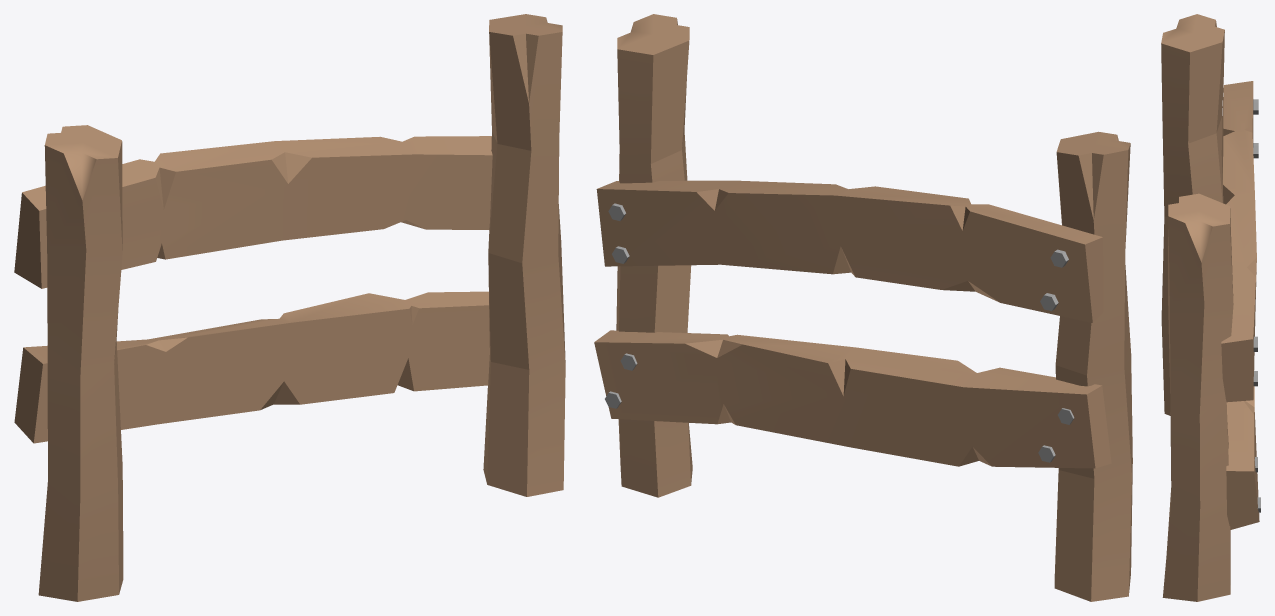
Rendered from fence2.fbx.
The picture shows the model from 3 angles, left to right: view 1: azimuth 30°, elevation 25°; view 2: azimuth 150°, elevation 25°; view 3: azimuth 270°, elevation 25°; orthographic projection. The views are drawn at different scales.
Parts seen in each view (by area): view 1: pCube6, pCube5, pCylinder8, pCylinder7; view 2: pCube5, pCube6, pCylinder8, pCylinder7; view 3: pCylinder7, pCylinder8, pCube6, pCube5.
Boxes of the visible parts, x1,y1,x2,y2 form: pCube6: (14, 136, 492, 288); pCube5: (14, 291, 489, 443); pCylinder8: (38, 125, 123, 601); pCylinder7: (483, 14, 565, 496); pCube5: (594, 330, 1111, 468); pCube6: (596, 180, 1103, 322); pCylinder8: (1054, 131, 1132, 601); pCylinder7: (616, 14, 692, 497); pCylinder7: (1162, 193, 1233, 601); pCylinder8: (1161, 14, 1224, 415); pCube6: (1221, 81, 1256, 402); pCube5: (1226, 386, 1259, 529).
Size of the model in its own units: 6.36 by 5.31 by 1.25.
